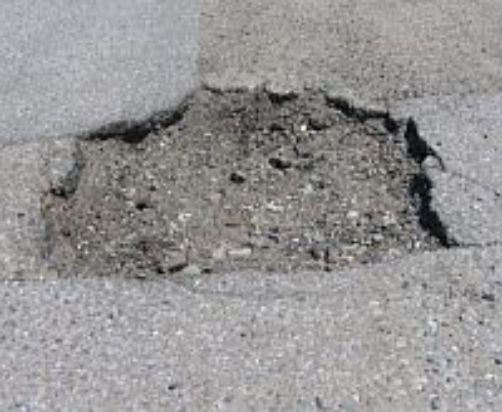pothole: (32, 77, 461, 284)
